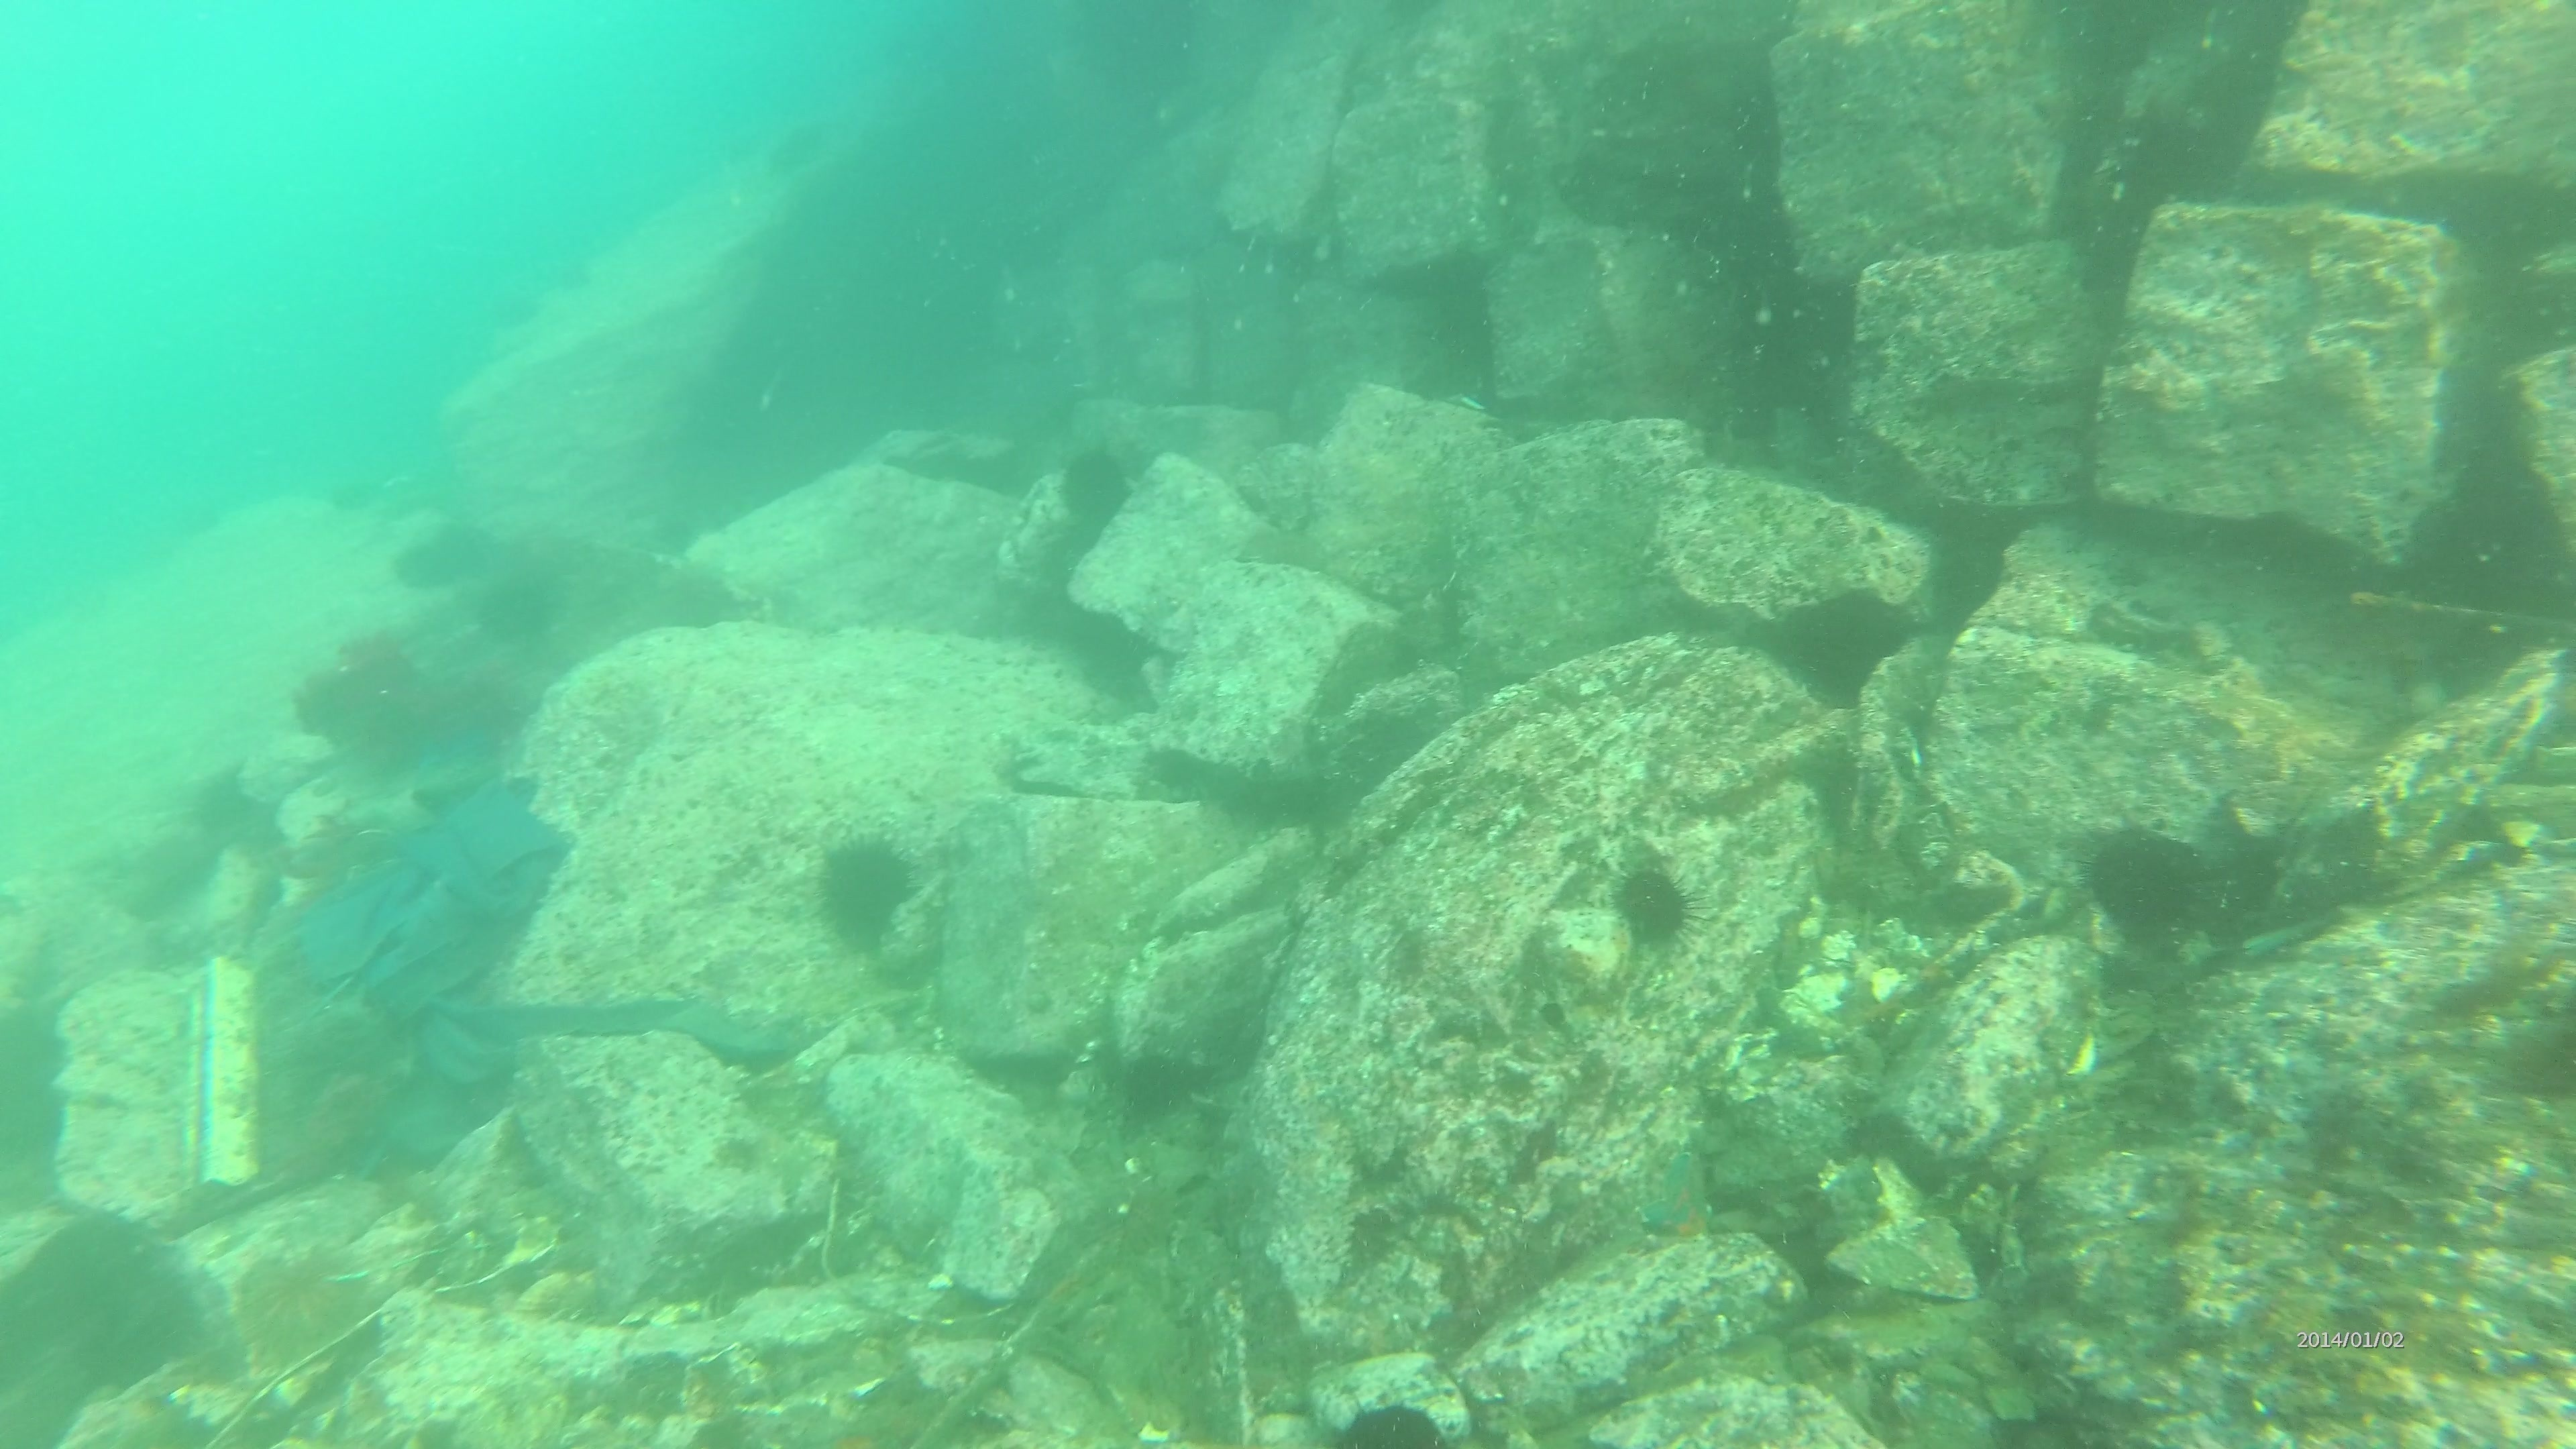echinus: (1775, 579, 1916, 706), (228, 1244, 372, 1369), (2075, 821, 2210, 943), (807, 828, 922, 950), (1605, 853, 1702, 955), (1051, 437, 1141, 534), (469, 564, 566, 655), (387, 538, 464, 598), (433, 520, 502, 563), (494, 295, 550, 329), (548, 265, 594, 292)
starfish: (1631, 1139, 1721, 1251)
